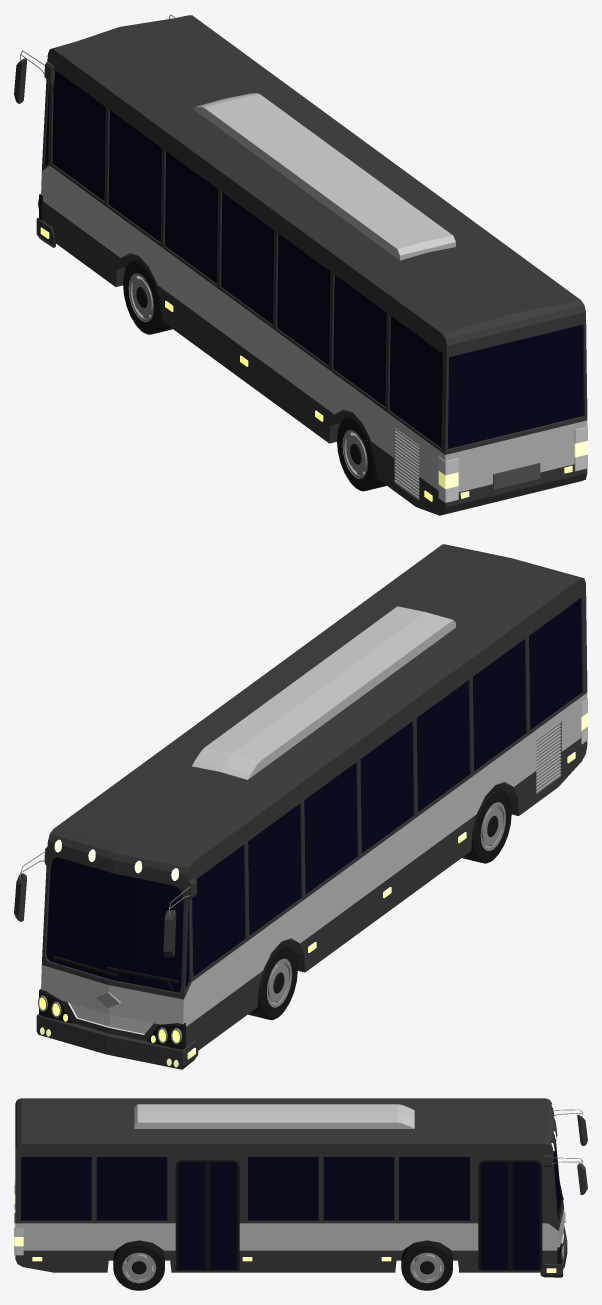
The model's file is realistic-transit-bus.glb.
The picture shows the model from 3 angles, top to bottom: view 1: azimuth 30°, elevation 25°; view 2: azimuth 150°, elevation 25°; view 3: azimuth 270°, elevation 25°; orthographic projection. The views are drawn at different scales.
Visible parts, largest first — view 1: cityBus; view 2: cityBus; view 3: cityBus.
Part boxes in pixels (<box>): cityBus: <box>14,14,587,515</box>; cityBus: <box>14,544,587,1069</box>; cityBus: <box>14,1098,587,1290</box>.
Size of the model in its own units: 2.55 by 3.57 by 11.93.
